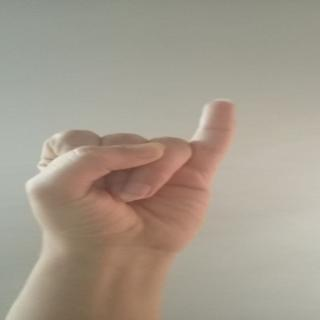MEEM: (10, 97, 246, 236)
